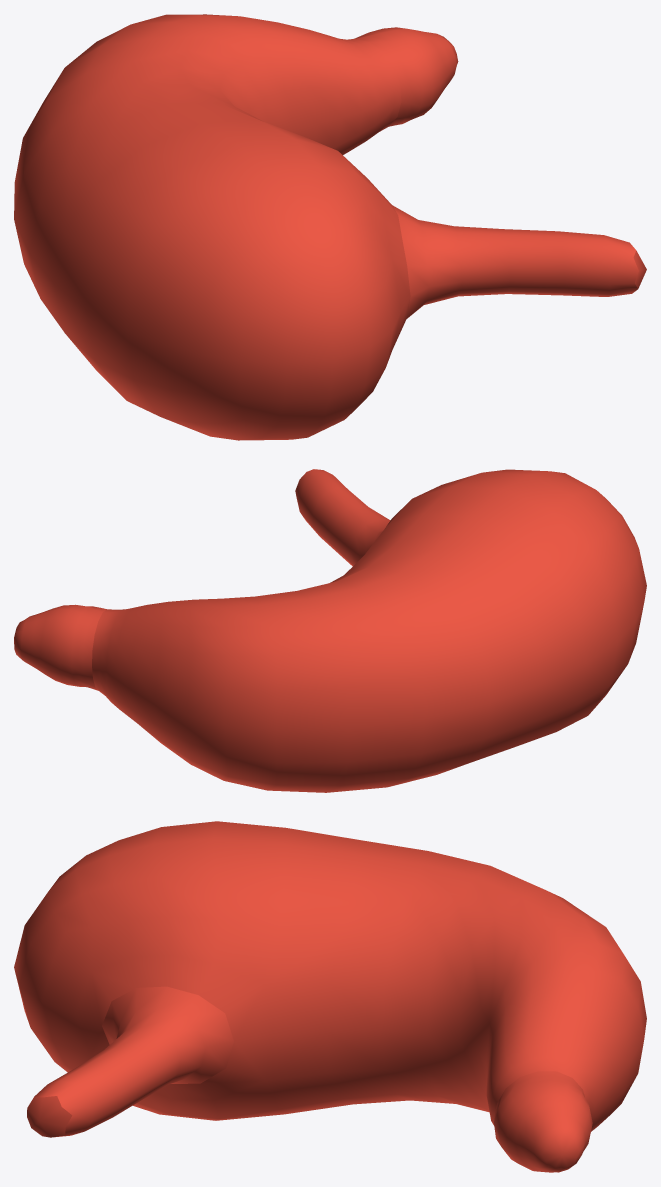
The model's file is STOMACH.glb.
The picture shows the model from 3 angles, top to bottom: view 1: azimuth 30°, elevation 25°; view 2: azimuth 150°, elevation 25°; view 3: azimuth 270°, elevation 25°; orthographic projection. The views are drawn at different scales.
Parts seen in each view (by area): view 1: STOMACH; view 2: STOMACH; view 3: STOMACH.
Boxes of the visible parts, <box> form: STOMACH: <box>14,14,646,440</box>; STOMACH: <box>14,469,646,792</box>; STOMACH: <box>14,821,646,1172</box>.
Size of the model in its own units: 2.15 by 1.05 by 2.28.
